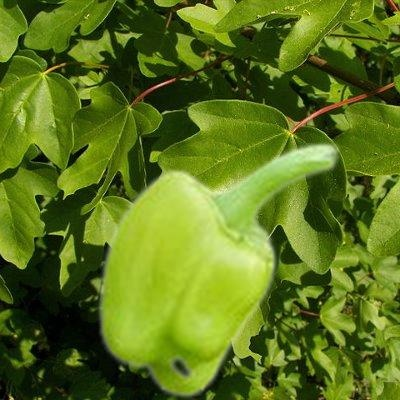bell_pepper: (96, 140, 340, 398)
